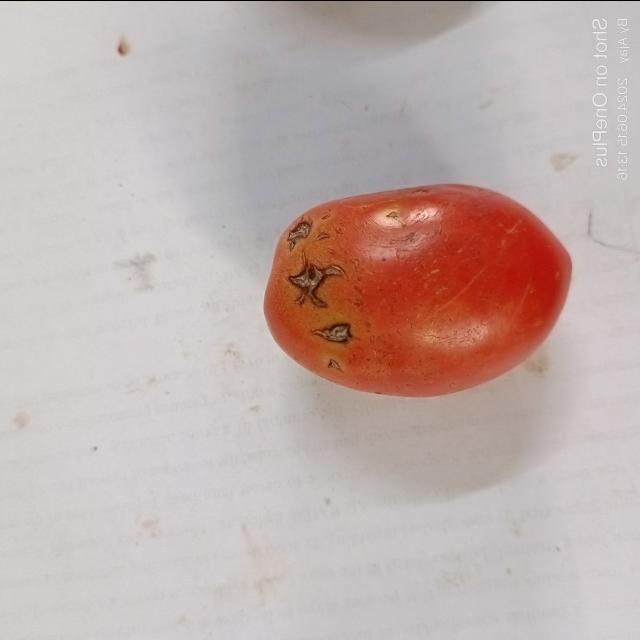Bacterial_Spot: (289, 256, 344, 306), (309, 323, 355, 346), (282, 216, 310, 252), (324, 356, 342, 372)
